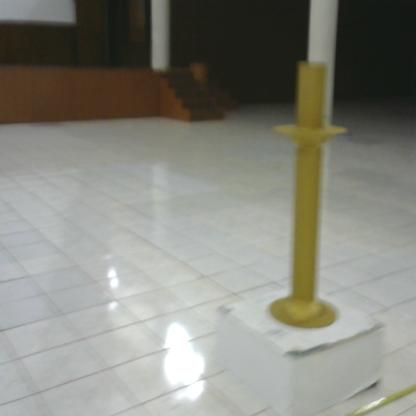pole: (269, 57, 355, 331)
